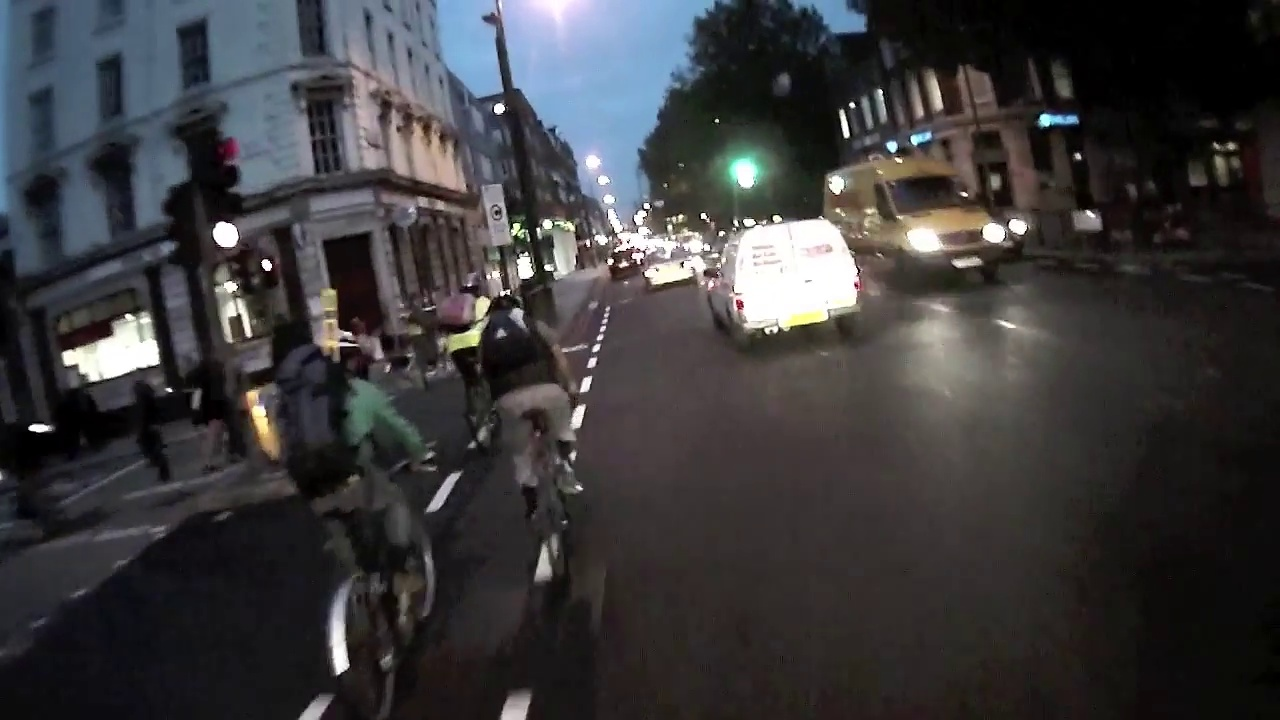cyclist_back: (261, 330, 455, 711), (474, 284, 614, 617), (438, 276, 501, 444)
